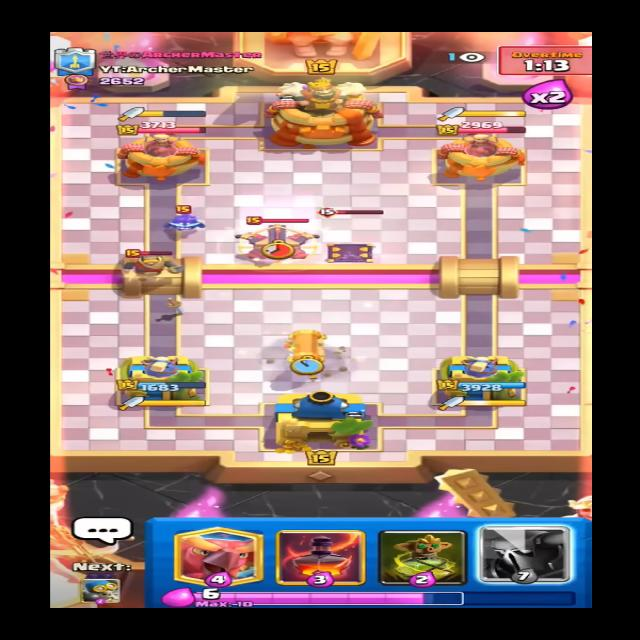Espirit: (163, 200, 219, 237)
Evoteslahidden: (308, 208, 390, 266)
Knight: (120, 244, 178, 280)
Xbow: (232, 214, 318, 264)
